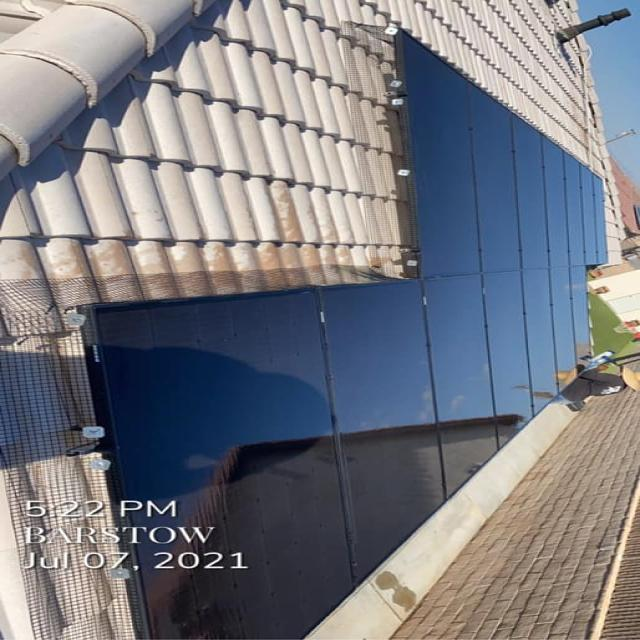clean-solar-panel: (84, 26, 607, 639)
